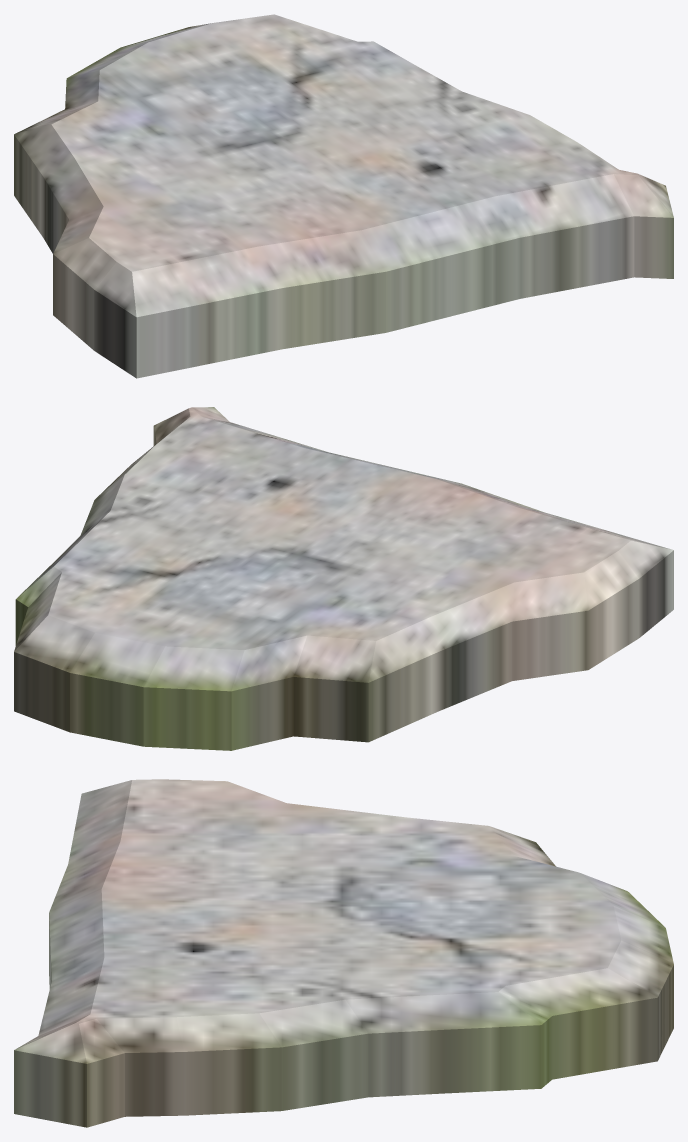
File: stone.18.fbx
3 renders of one model, top to bottom at view 1: azimuth 30°, elevation 25°; view 2: azimuth 150°, elevation 25°; view 3: azimuth 270°, elevation 25°, orthographic. The views are drawn at different scales.
Visible parts, largest first — view 1: stone.18; view 2: stone.18; view 3: stone.18.
Boxes of the visible parts, x1,y1,x2,y2 form: stone.18: (14,14,673,378); stone.18: (14,407,673,750); stone.18: (14,779,673,1127).
Bounding box in the file's own units: 64.91 × 9.74 × 66.55.
1 material, 1 textured.
